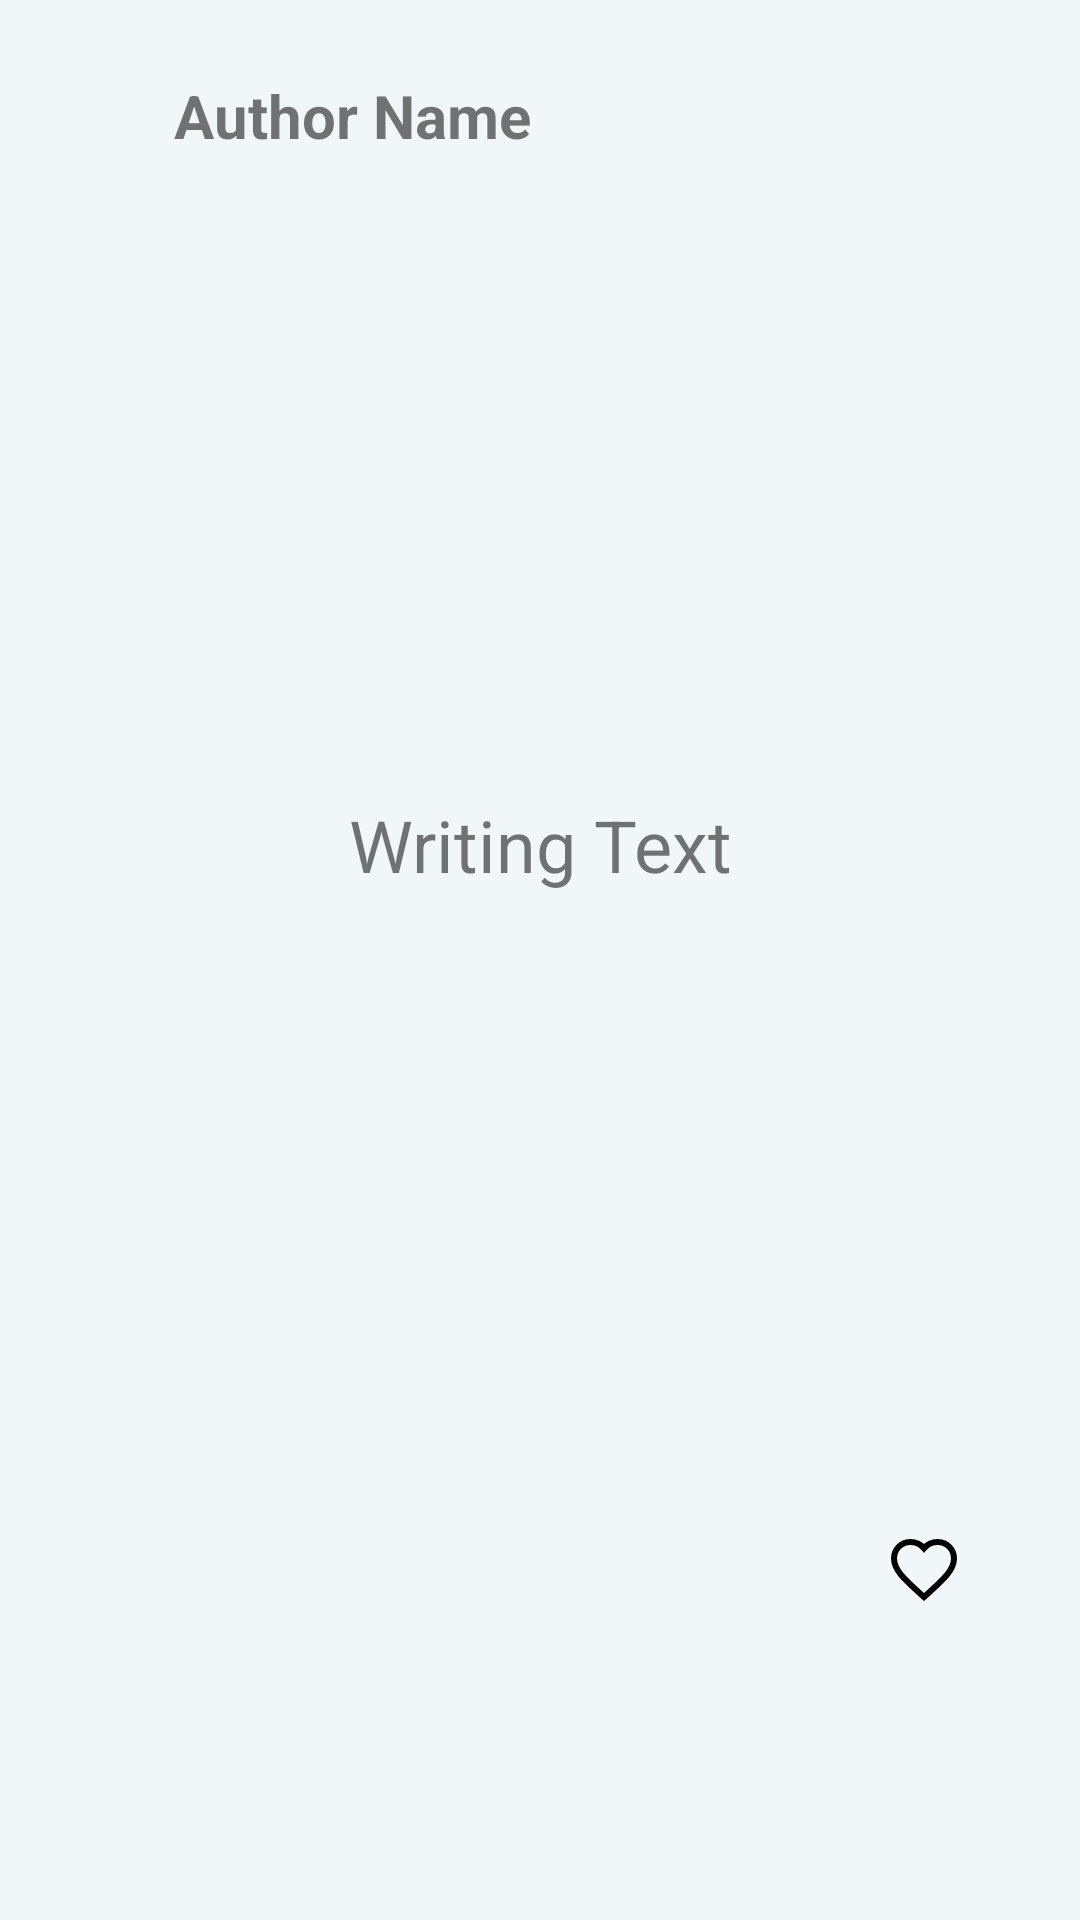

Icon click points for this 1080×1920 phone screenshot, format (x=x, y=y):
Heart Button: (x=924, y=1570)
